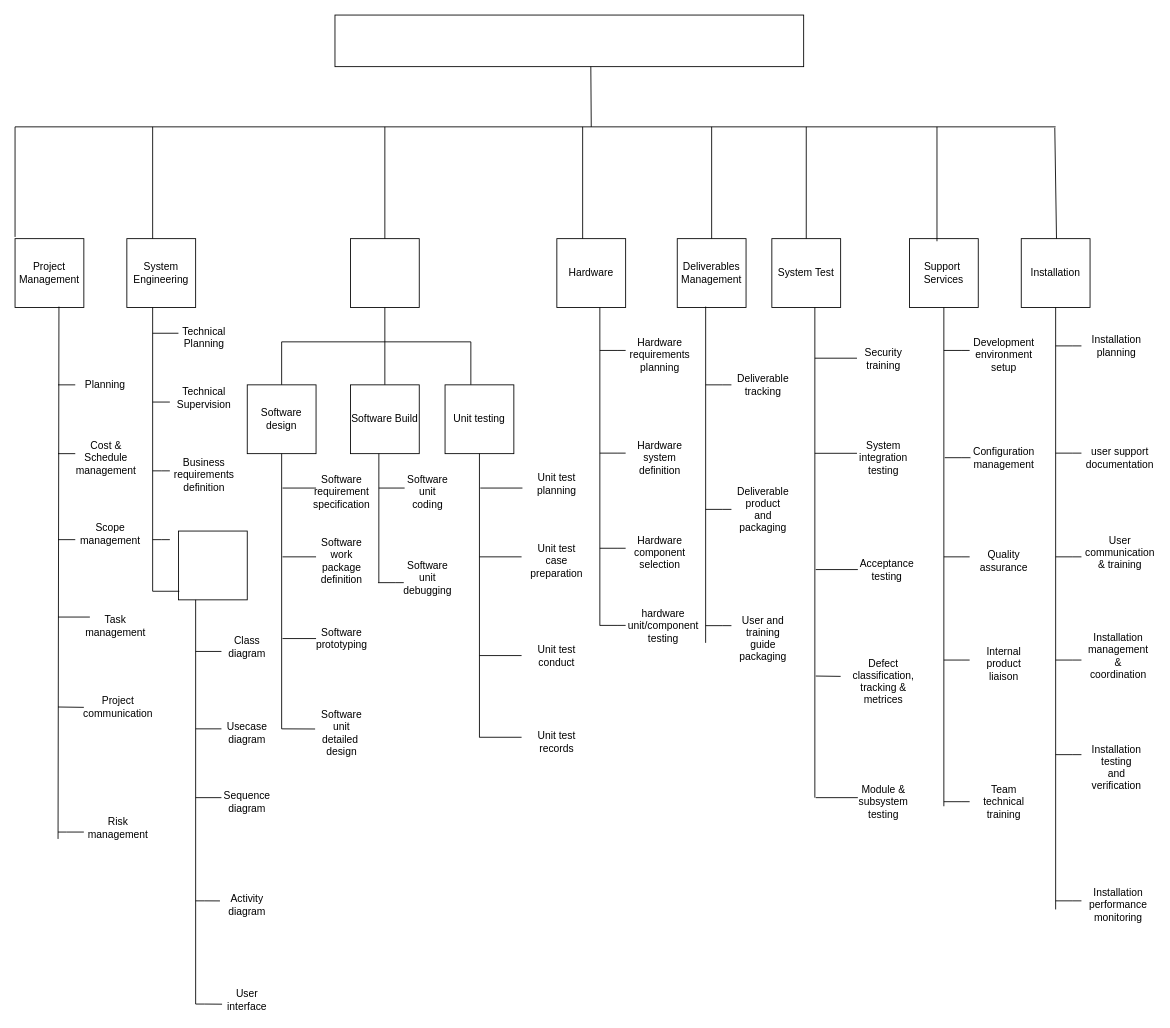
Some shapes in this 1170 by 1028 pixel diagram are drawn without their labels. The centre of each missing label's shape, as x and y in pixels:
NatureSync Health Tracker Using AI: point 569,40
Software: point 384,272
System architecture & top level design: point 212,565
